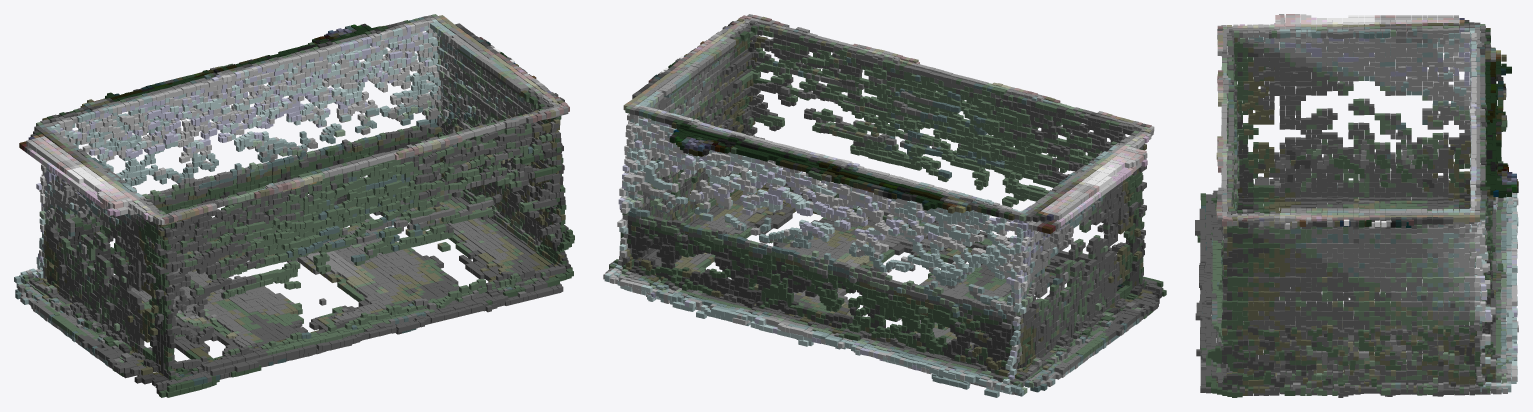
The model's file is 02_scan_cleaned_inside_stl_range_ROBODK_MM_COLORED.obj.
3 views of the same model, side by side, from view 1: azimuth 30°, elevation 25°; view 2: azimuth 150°, elevation 25°; view 3: azimuth 270°, elevation 25° (orthographic). The views are drawn at different scales.
Parts seen in each view (by area): view 1: Colored_Cleaned_Scan; view 2: Colored_Cleaned_Scan; view 3: Colored_Cleaned_Scan.
Part boxes in pixels (x1,y1,x2,y2): Colored_Cleaned_Scan: (14, 14, 574, 397); Colored_Cleaned_Scan: (603, 14, 1166, 397); Colored_Cleaned_Scan: (1195, 14, 1518, 397).
Size of the model in its own units: 1019 by 409 by 614.
